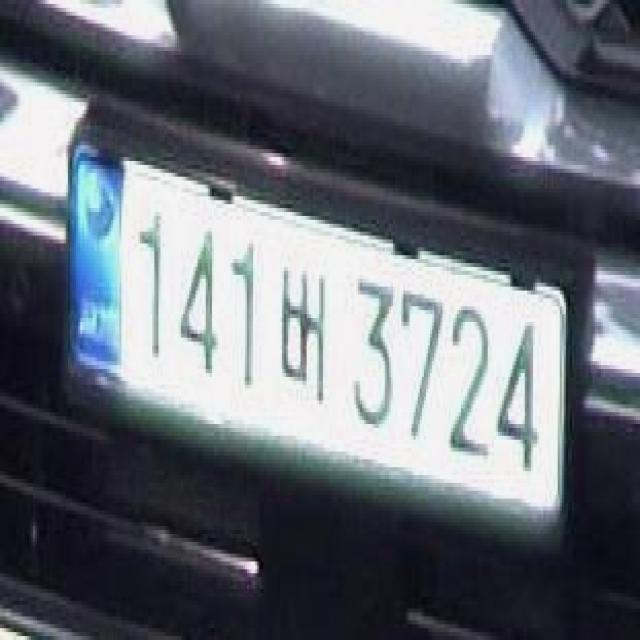illegal_plate: (62, 134, 571, 541)
